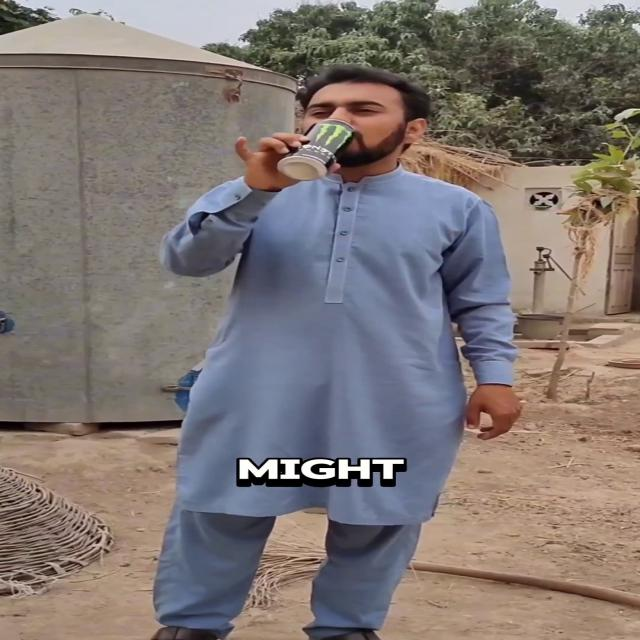Bottle: (277, 120, 360, 181)
Hand: (236, 127, 340, 195)
Mouth: (308, 129, 363, 149)
